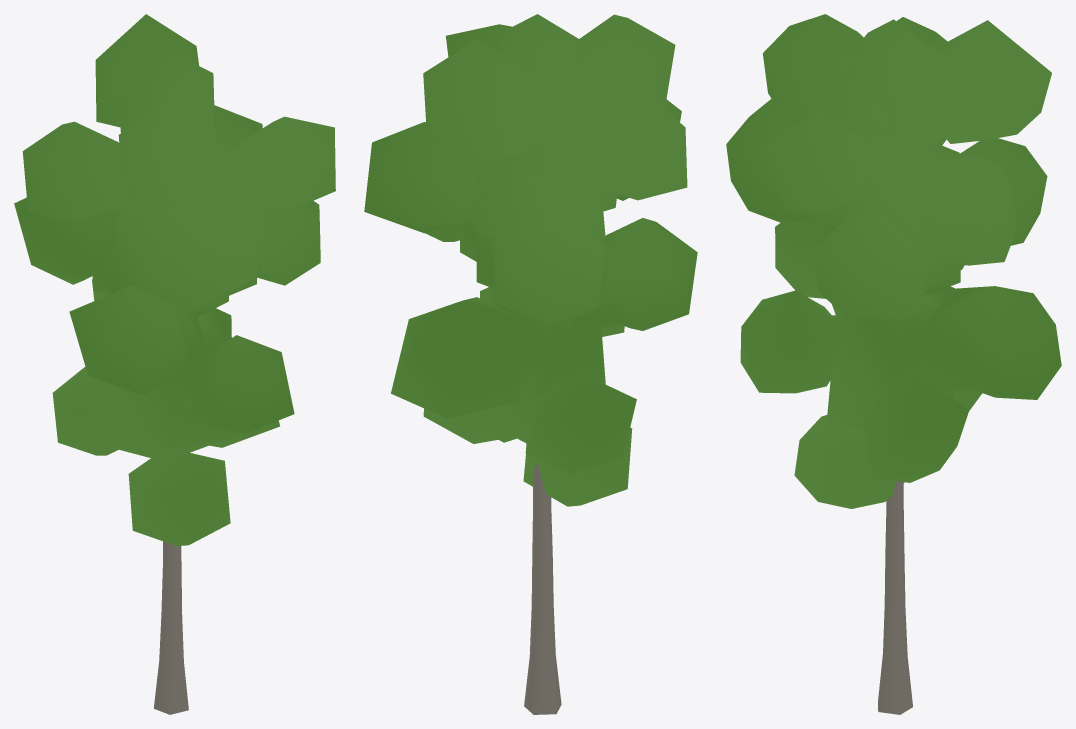
The model's file is Blender_TulipPoplar_1_Far.glb.
3 renders of one model, left to right at view 1: azimuth 30°, elevation 25°; view 2: azimuth 150°, elevation 25°; view 3: azimuth 270°, elevation 25°, orthographic. The views are drawn at different scales.
Parts seen in each view (by area): view 1: Blender_TulipPoplar_1_Far; view 2: Blender_TulipPoplar_1_Far; view 3: Blender_TulipPoplar_1_Far.
Boxes of the visible parts, <box> form: Blender_TulipPoplar_1_Far: <box>14,14,335,714</box>; Blender_TulipPoplar_1_Far: <box>364,14,697,714</box>; Blender_TulipPoplar_1_Far: <box>726,14,1061,714</box>.
Size of the model in its own units: 17.12 by 38.63 by 16.87.
